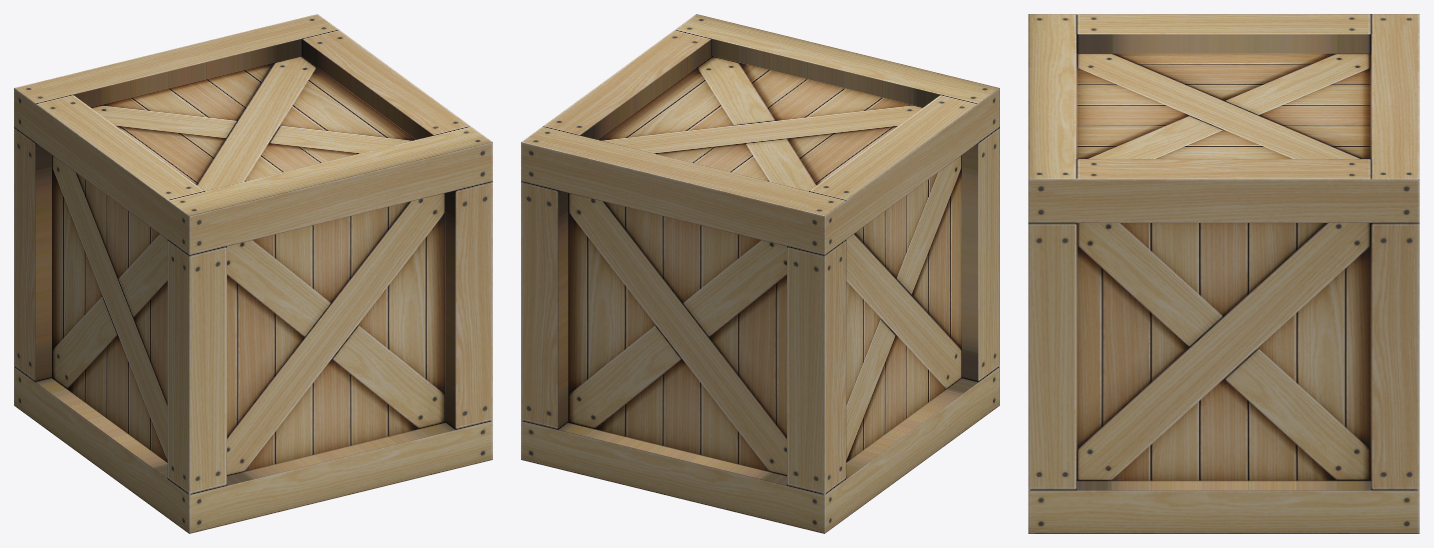
Rendered from cratev3.fbx.
The picture shows the model from 3 angles, left to right: view 1: azimuth 30°, elevation 25°; view 2: azimuth 150°, elevation 25°; view 3: azimuth 270°, elevation 25°; orthographic projection. The views are drawn at different scales.
Visible parts, largest first — view 1: Caja; view 2: Caja; view 3: Caja.
Boxes of the visible parts, x1=… form: Caja: x1=14, y1=14, x2=492, y2=533; Caja: x1=521, y1=14, x2=999, y2=533; Caja: x1=1028, y1=14, x2=1419, y2=533.
Bounding box in the file's own units: 200 × 200 × 200.
Materials: 1 (1 with a texture image).
